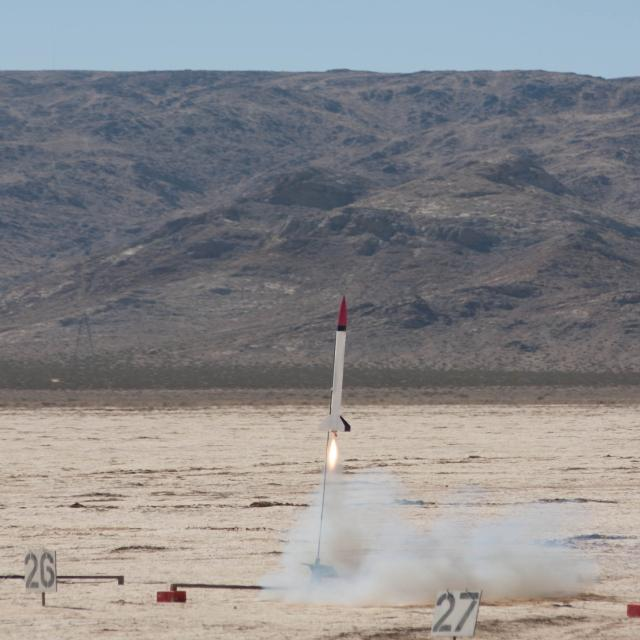Rocket: (318, 294, 352, 434)
